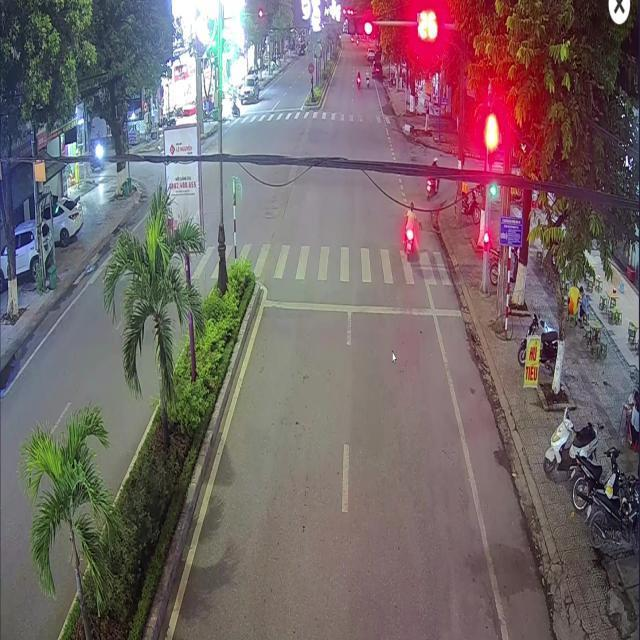motobike: (403, 228, 415, 260)
red_light: (345, 17, 372, 35), (486, 133, 495, 167), (483, 232, 487, 251)
stop_line: (263, 299, 463, 316)
